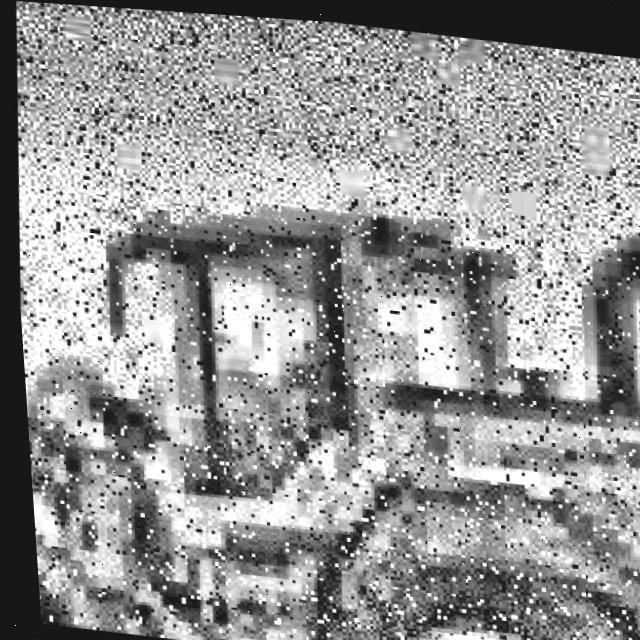buldozerpayloadergrader: (5, 94, 640, 640)
